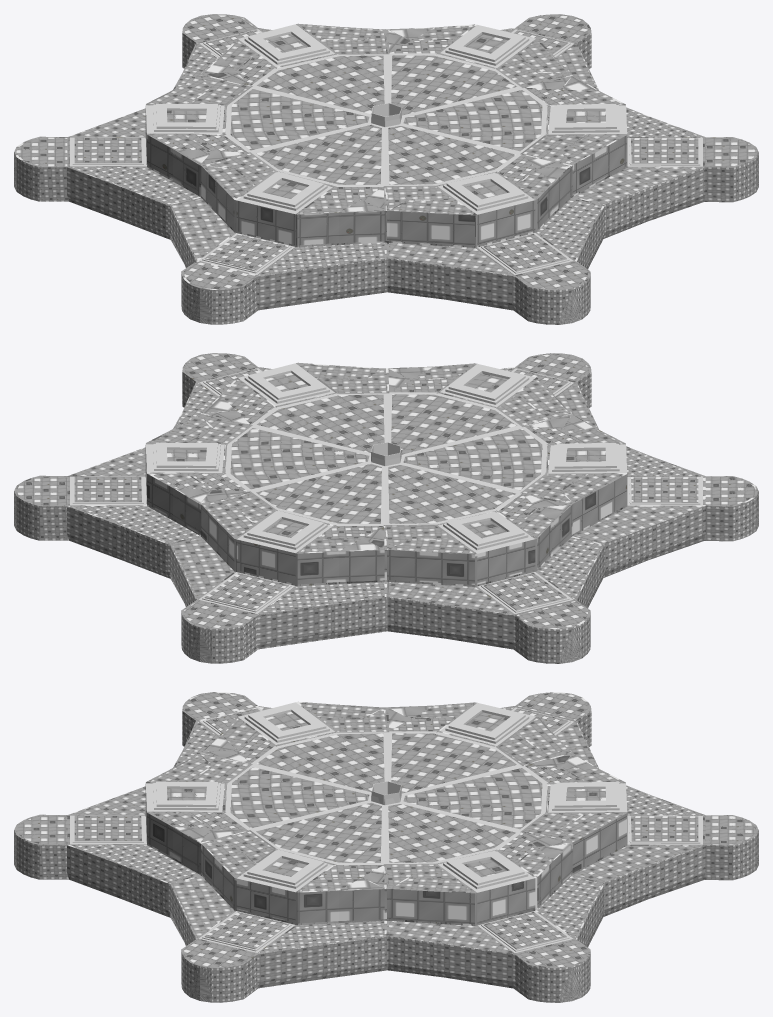
File: radial - Copy (5).fbx
3 views of the same model, one above another, from view 1: azimuth 30°, elevation 25°; view 2: azimuth 150°, elevation 25°; view 3: azimuth 270°, elevation 25° (orthographic).
Parts seen in each view (by area): view 1: Cylinder; view 2: Cylinder; view 3: Cylinder, Cylinder.013.
Boxes of the visible parts, x1,y1,x2,y2 form: Cylinder: [14, 14, 758, 324]; Cylinder: [14, 353, 758, 663]; Cylinder: [14, 692, 758, 1002]; Cylinder.013: [371, 781, 401, 804].
Size of the model in its own units: 930 by 120 by 1060.
